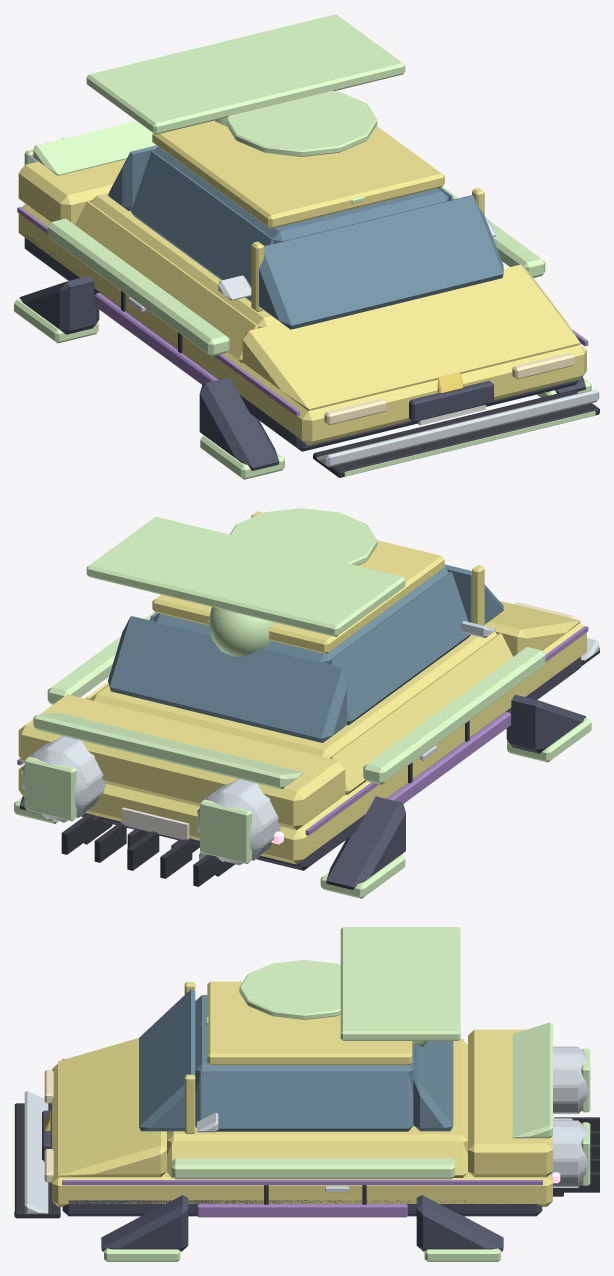
File: pixel_pilot.fbx
3 renders of one model, top to bottom at view 1: azimuth 30°, elevation 25°; view 2: azimuth 150°, elevation 25°; view 3: azimuth 270°, elevation 25°, orthographic. The views are drawn at different scales.
Visible parts, largest first — view 1: Body, Light, Glass, Trim2, Accent, Trim, Accent3, Accent2, Light2; view 2: Body, Light, Glass, Trim2, Accent, Accent3, Trim, Accent2, Accent4; view 3: Body, Light, Glass, Trim2, Accent, Accent2, Accent3, Trim, Light2.
Boxes of the visible parts, x1,y1,x2,y2 form: Body: [18, 120, 586, 445]; Light: [14, 14, 595, 479]; Glass: [108, 145, 503, 329]; Trim2: [19, 234, 585, 470]; Accent: [27, 138, 599, 467]; Trim: [121, 290, 599, 477]; Accent3: [33, 121, 156, 175]; Accent2: [17, 207, 588, 416]; Light2: [324, 352, 575, 425]; Body: [18, 511, 586, 864]; Light: [14, 508, 591, 898]; Glass: [108, 564, 503, 742]; Trim2: [19, 656, 585, 889]; Accent: [22, 621, 599, 865]; Accent3: [33, 712, 303, 789]; Trim: [61, 648, 599, 886]; Accent2: [17, 626, 588, 835]; Accent4: [121, 807, 189, 839]; Body: [52, 981, 552, 1206]; Light: [14, 927, 590, 1261]; Glass: [139, 989, 453, 1131]; Trim2: [42, 1110, 542, 1251]; Accent: [24, 1046, 588, 1213]; Accent2: [62, 1059, 542, 1217]; Accent3: [195, 1022, 552, 1138]; Trim: [14, 1103, 599, 1218]; Light2: [44, 1070, 53, 1182].
Bounding box in the file's own units: 3.2 × 2.13 × 5.38.
